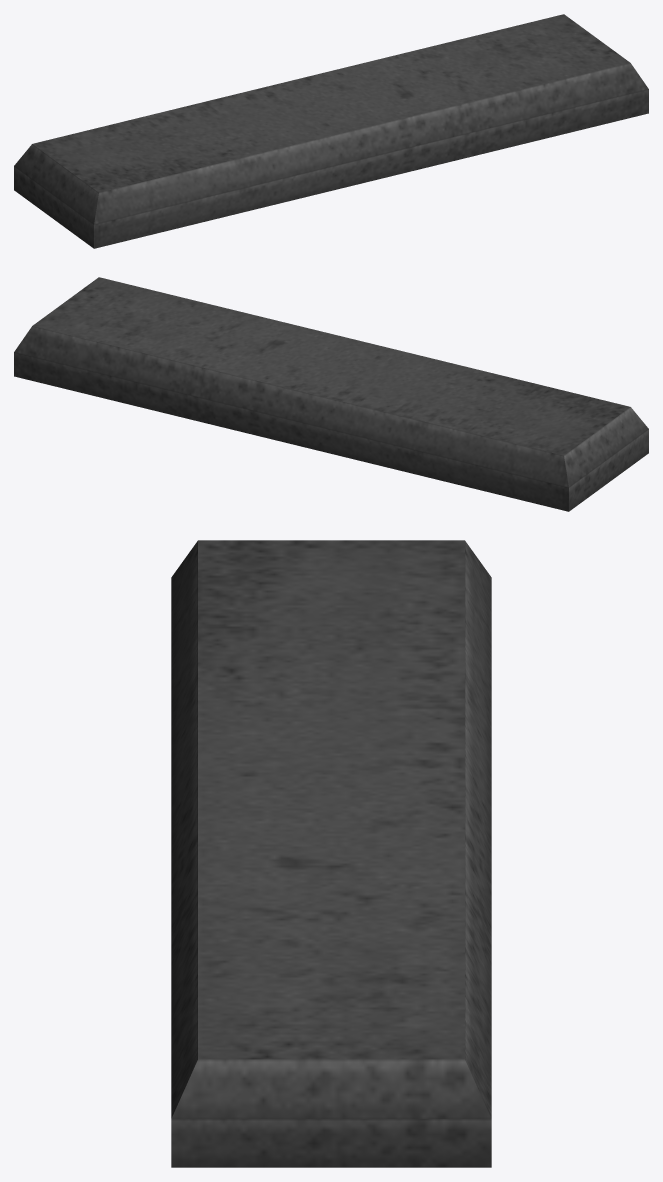
File: ceiling_lamp_4_off.obj
3 renders of one model, top to bottom at view 1: azimuth 30°, elevation 25°; view 2: azimuth 150°, elevation 25°; view 3: azimuth 270°, elevation 25°, orthographic. The views are drawn at different scales.
Parts seen in each view (by area): view 1: ceiling_lamp_4_off; view 2: ceiling_lamp_4_off; view 3: ceiling_lamp_4_off.
Boxes of the visible parts, <box> form: ceiling_lamp_4_off: <box>14,14,648,248</box>; ceiling_lamp_4_off: <box>14,277,648,511</box>; ceiling_lamp_4_off: <box>171,540,491,1167</box>.
Bounding box in the file's own units: 1.2 × 0.1 × 0.3.
